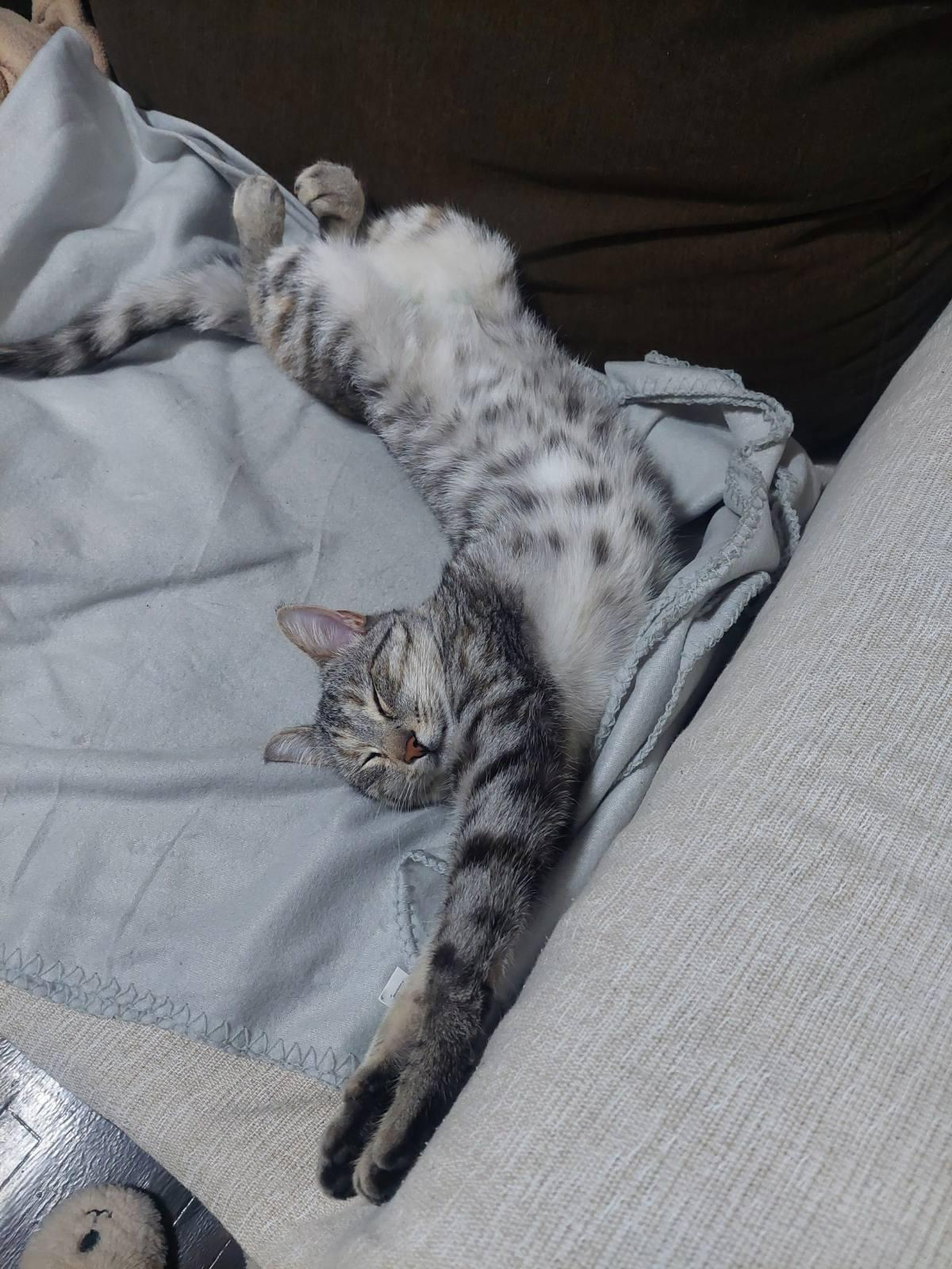macka: (8, 152, 668, 1206)
